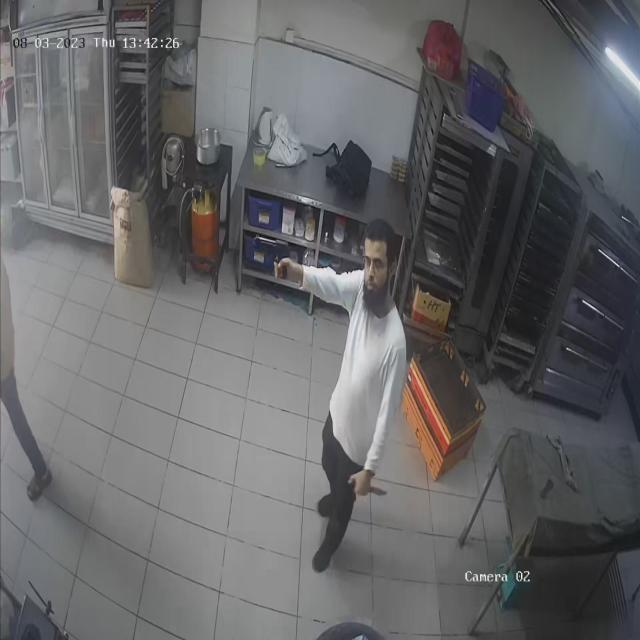Gun: (248, 227, 298, 285)
Knife: (344, 462, 404, 504)
